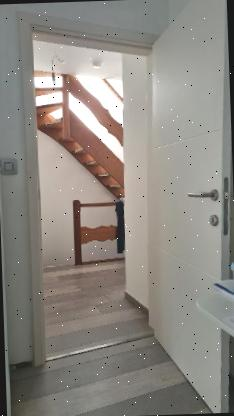door: (10, 6, 234, 404)
